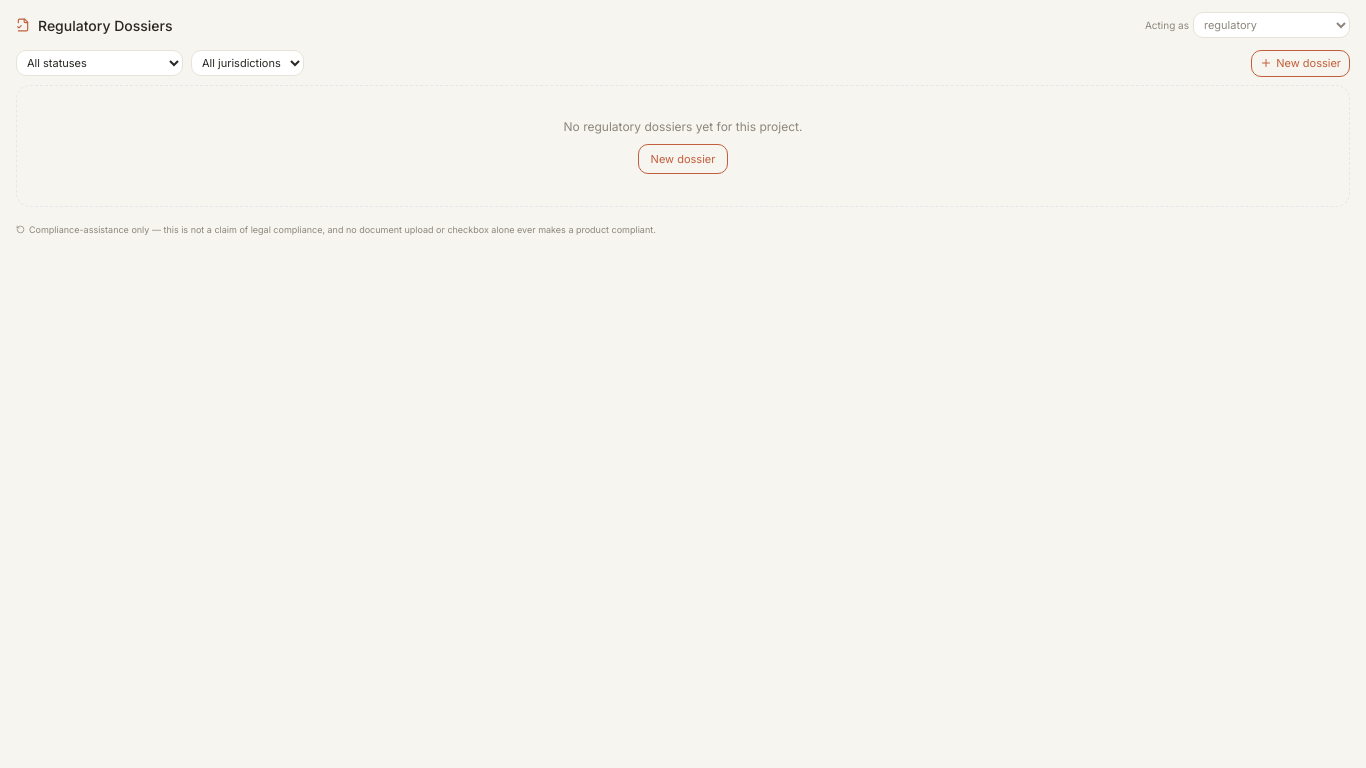
DossierPanel — creation flow › only ever offers real saved versions, never the current working draft, and requires a jurisdiction
Click the 1st button "New dossier": (1301, 63) [1251,50,1350,76]
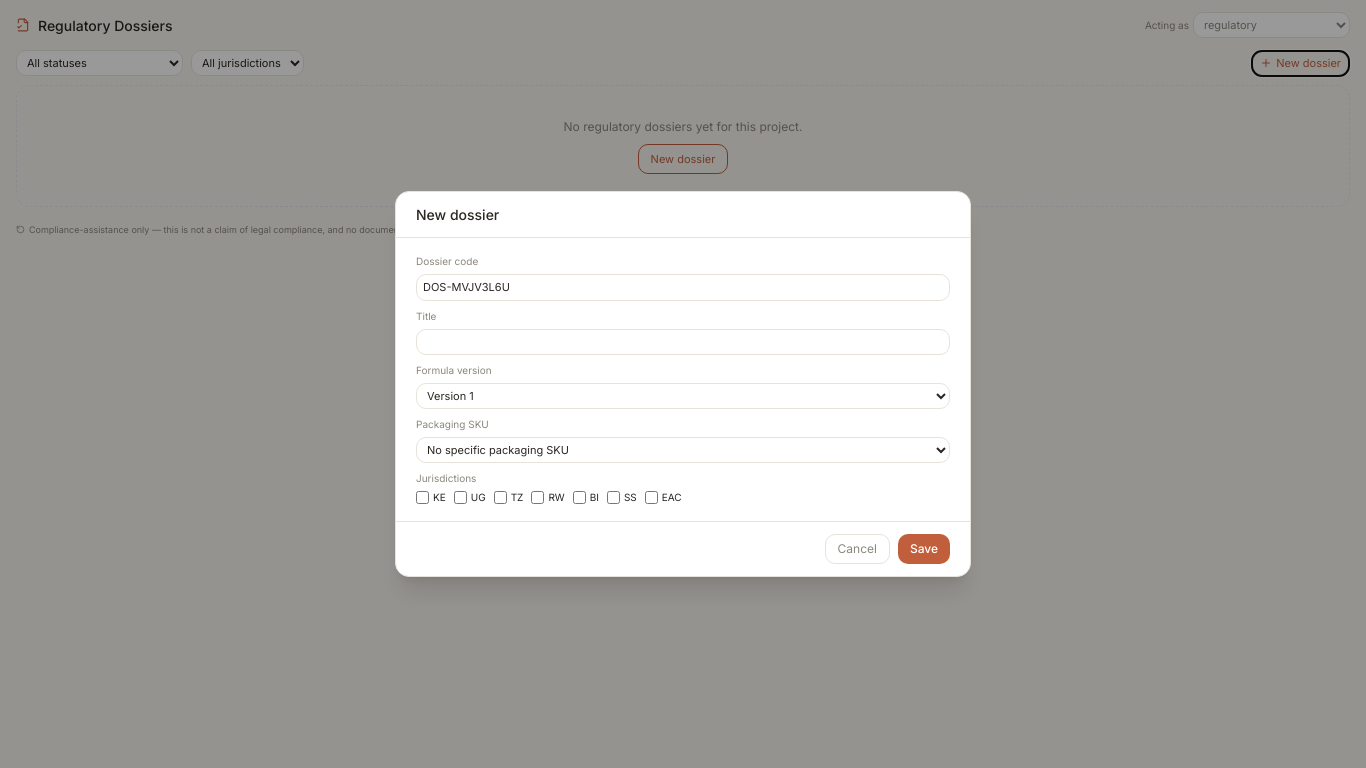
Click the button "Save": (924, 549) [898,534,950,564]
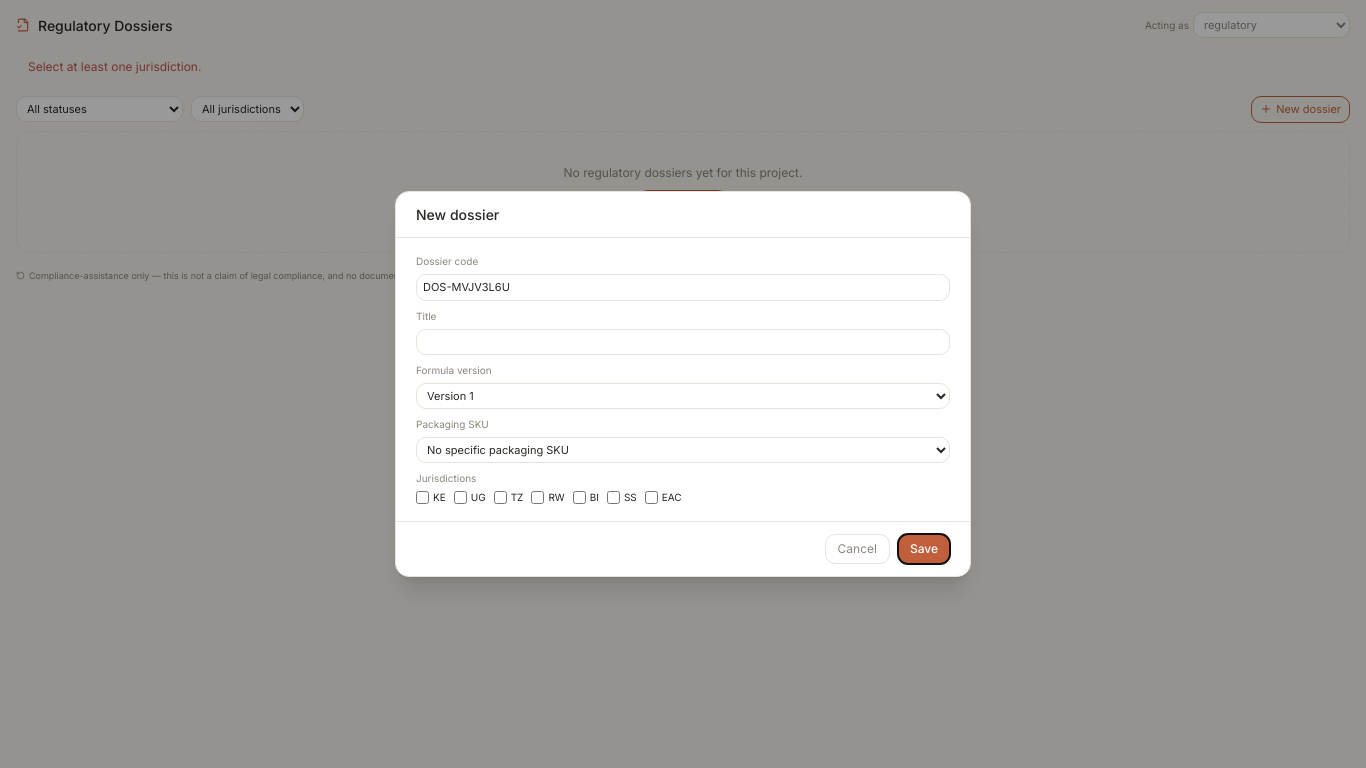
Check: the text "Select at least one jurisdiction." is shown, box [28,59,201,74]
